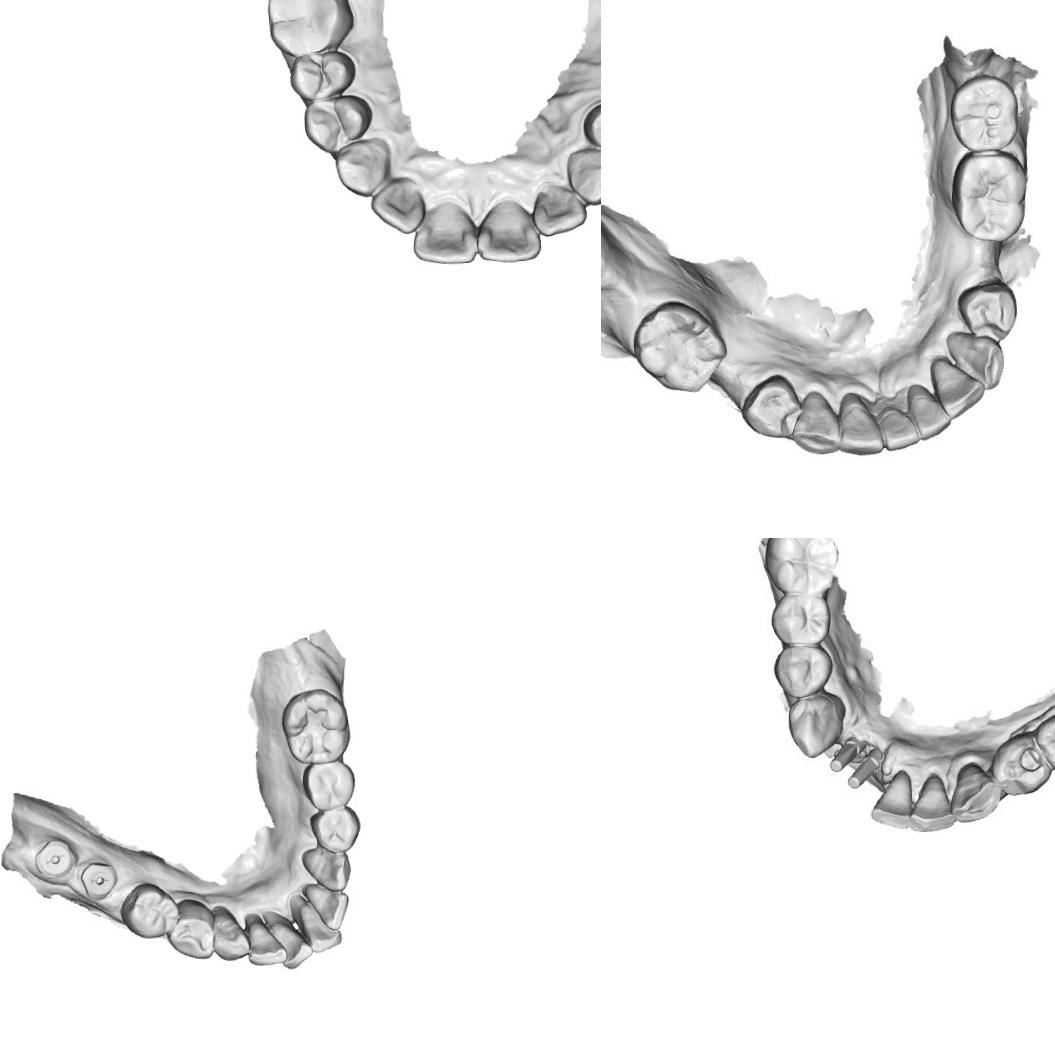abutment: (844, 746, 892, 796), (824, 734, 870, 774)
canine: (785, 692, 845, 760), (331, 136, 395, 198), (945, 322, 1001, 390), (948, 756, 1002, 825), (790, 392, 836, 458), (299, 844, 352, 892), (210, 904, 253, 962), (565, 146, 601, 207)
implant_minus: (32, 837, 74, 880), (78, 860, 120, 900)
incisor: (475, 194, 543, 265), (410, 202, 478, 266), (530, 182, 590, 238), (370, 176, 426, 236), (926, 360, 982, 419), (908, 774, 958, 840), (900, 381, 954, 442), (876, 397, 922, 457), (835, 402, 881, 461), (869, 770, 912, 832), (244, 920, 288, 968), (300, 909, 342, 954), (314, 890, 351, 930), (280, 928, 314, 970)
molar: (630, 296, 730, 400), (950, 148, 1029, 242), (946, 73, 1023, 158), (279, 687, 352, 766), (264, 0, 357, 59), (759, 538, 845, 596)
premolar: (737, 368, 802, 441), (301, 92, 374, 154), (990, 732, 1053, 796), (116, 880, 181, 941), (288, 48, 358, 103), (164, 895, 218, 960), (772, 644, 833, 696), (960, 281, 1014, 338), (300, 759, 356, 812), (771, 594, 827, 644), (308, 804, 362, 854), (580, 87, 601, 164), (1037, 711, 1055, 771)
